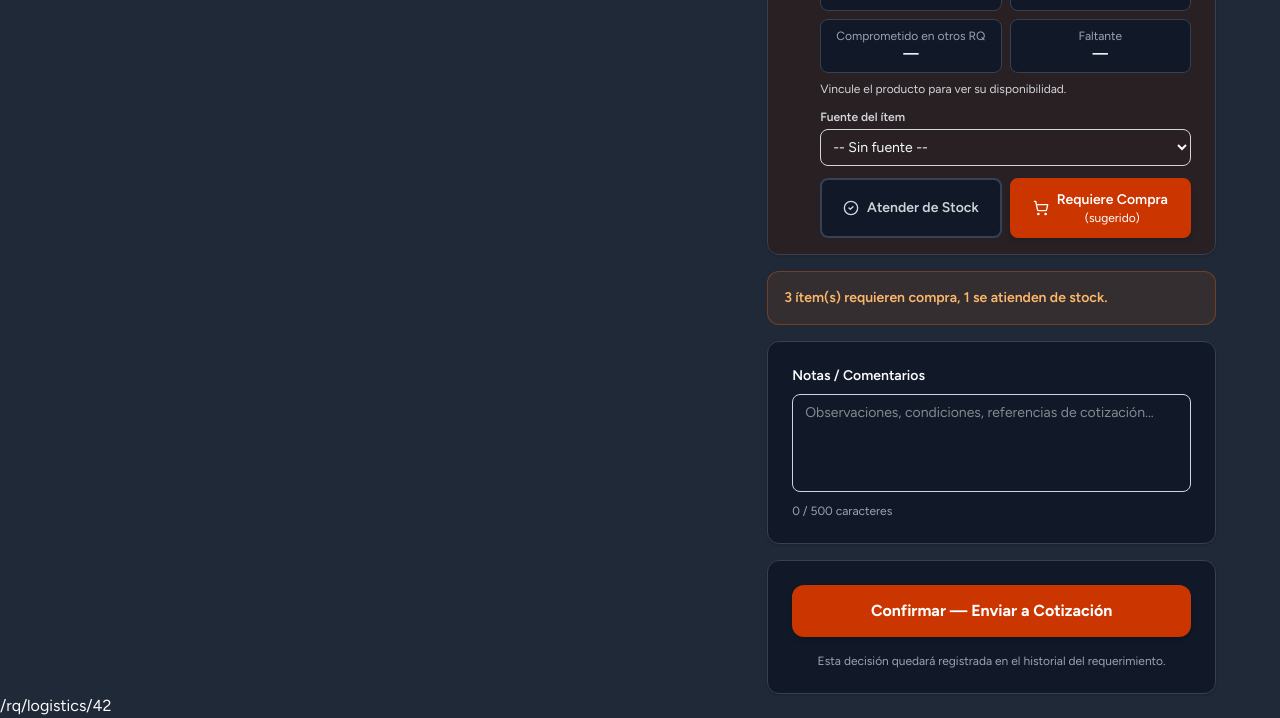
LogisticsActionPage — después de guardar los ítems › tras guardar con éxito la notificación y la salida a la lista son las de siempre
(page scrolled)
Click the button "Confirmar — Enviar a Cotización".
click(992, 611)  # box 792,585 -> 1191,637
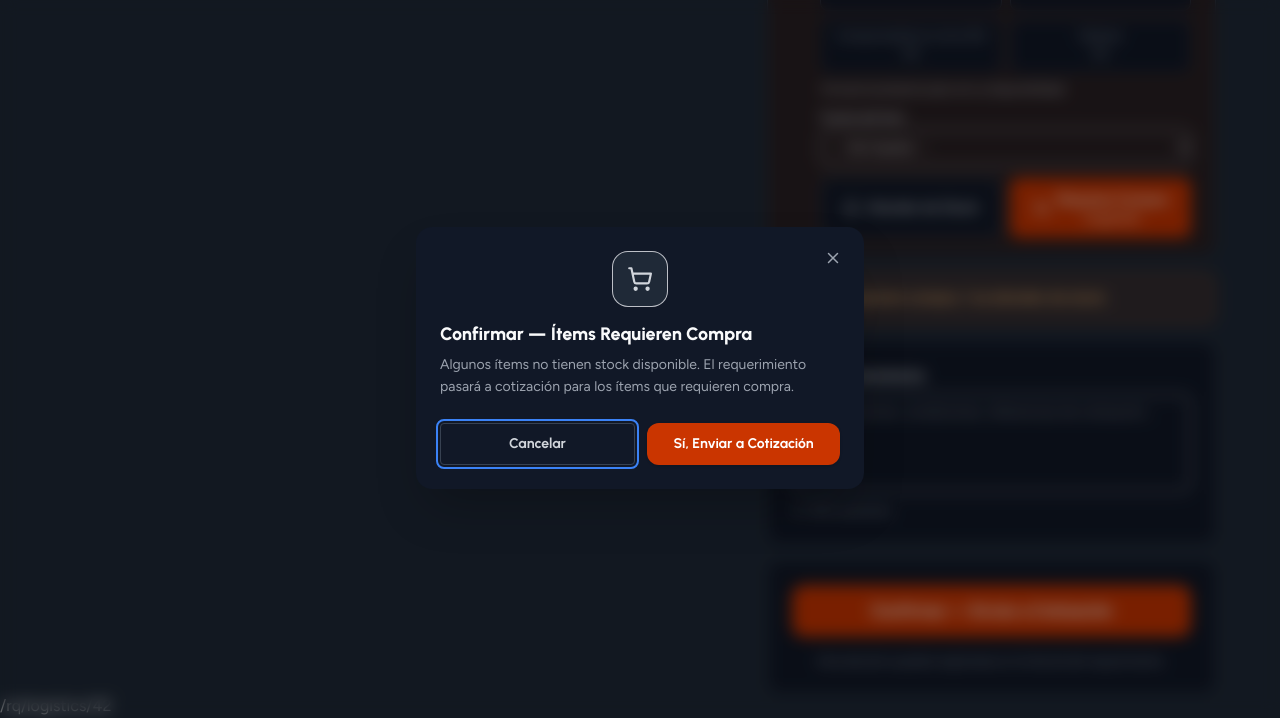
Click the button "Sí, Enviar a Cotización".
click(744, 444)  # box 647,423 -> 840,465
(page scrolled)
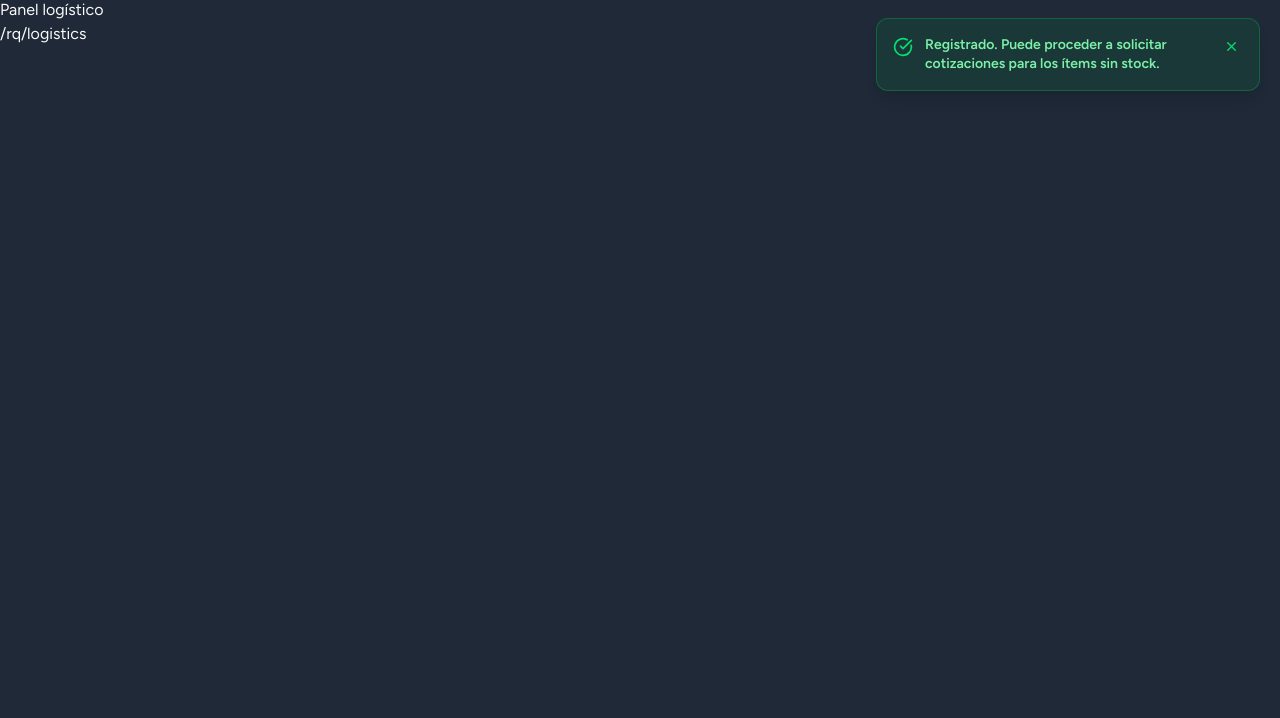
Expected: the text "Registrado. Puede proceder a solicitar cotizaciones" is shown, 925,36 -> 1167,72
Expected: the text with test id "loc" reads "/rq/logistics", 0,24 -> 86,43
